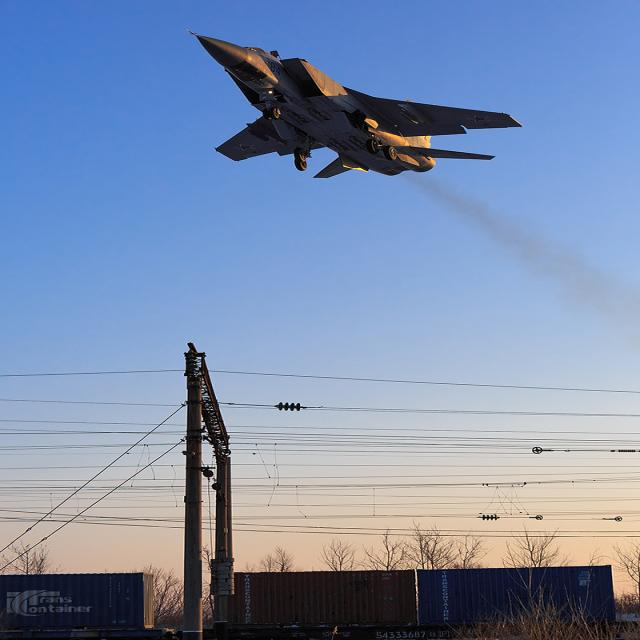MIL_Plane: (184, 28, 523, 178)
